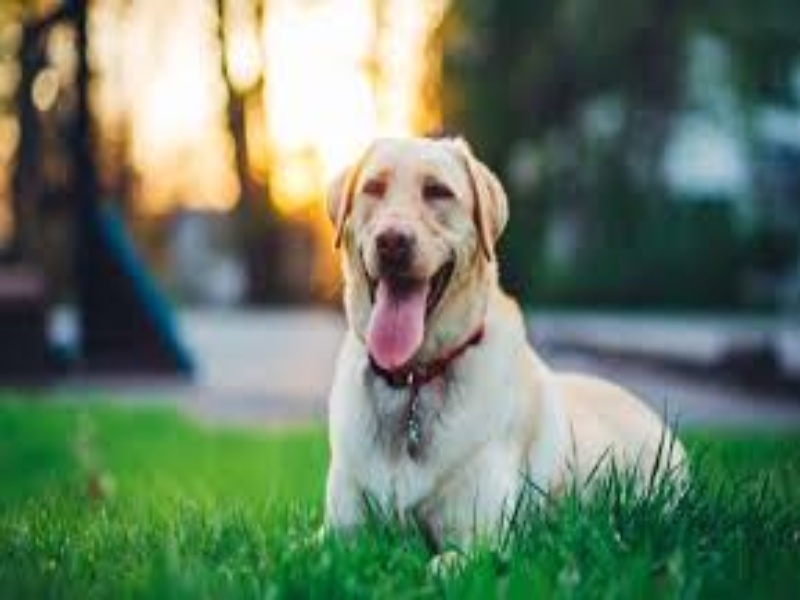dog: (314, 130, 697, 582)
